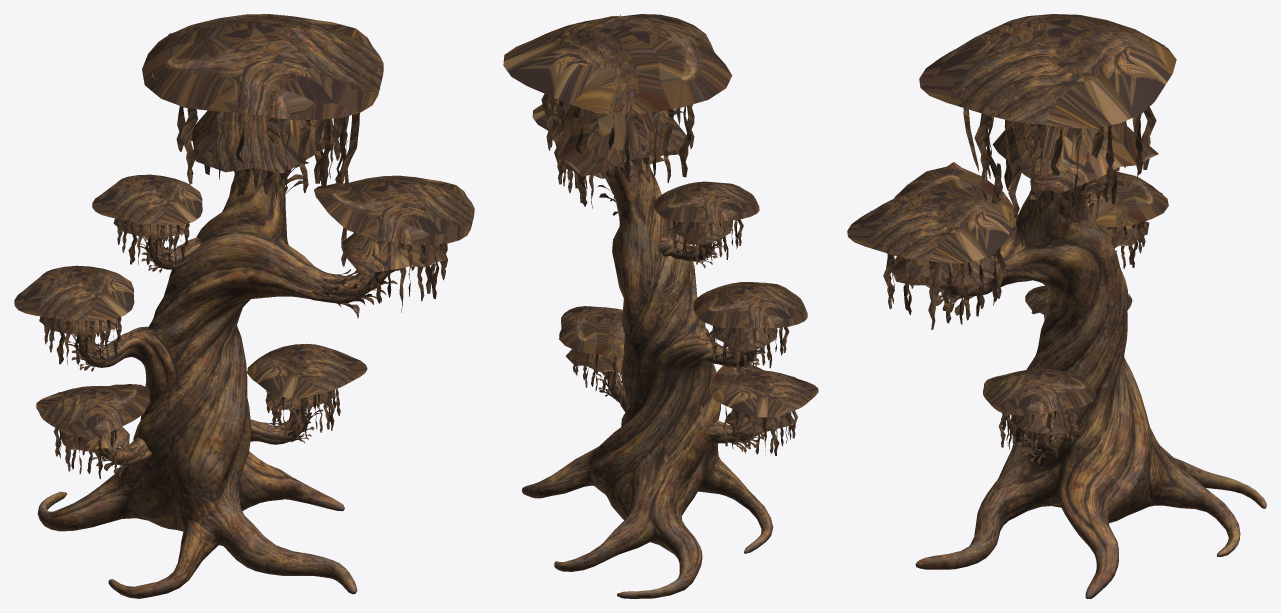
Rendered from jhay_tree4.glb.
3 views of the same model, side by side, from view 1: azimuth 30°, elevation 25°; view 2: azimuth 150°, elevation 25°; view 3: azimuth 270°, elevation 25° (orthographic). The views are drawn at different scales.
Parts seen in each view (by area): view 1: tree 4; view 2: tree 4; view 3: tree 4.
Part boxes in pixels (x1,y1,x2,y2): tree 4: (14, 14, 474, 598); tree 4: (503, 14, 818, 598); tree 4: (847, 14, 1266, 598).
Bounding box in the file's own units: 4.28 × 5.9 × 4.19.
Materials: 2 (2 with a texture image).
